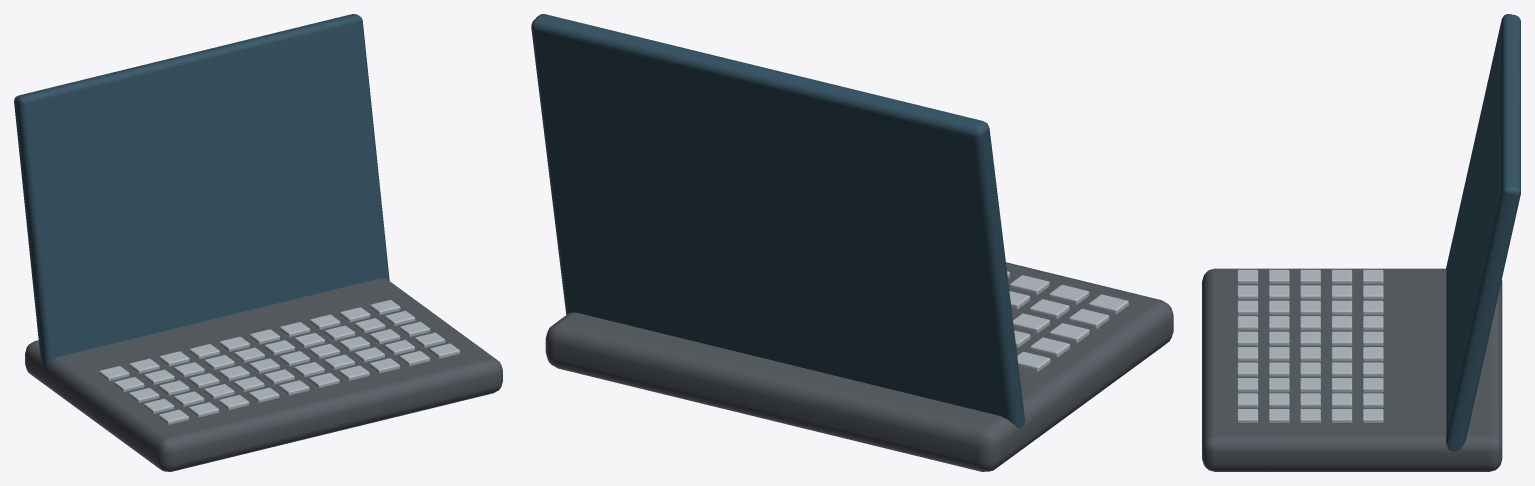
The model's file is atelier-laptop.glb.
3 renders of one model, left to right at view 1: azimuth 30°, elevation 25°; view 2: azimuth 150°, elevation 25°; view 3: azimuth 270°, elevation 25°, orthographic. The views are drawn at different scales.
Visible parts, largest first — view 1: screen.005, metal.136, steel.041; view 2: screen.005, metal.136, steel.041; view 3: metal.136, screen.005, steel.041.
Boxes of the visible parts, box(x1,y1,x2,y2) form: screen.005: box(14, 14, 389, 367); metal.136: box(25, 278, 502, 471); steel.041: box(99, 300, 459, 425); screen.005: box(531, 14, 1025, 428); metal.136: box(545, 262, 1173, 471); steel.041: box(1007, 271, 1128, 372); metal.136: box(1202, 268, 1502, 471); screen.005: box(1446, 14, 1520, 451); steel.041: box(1237, 269, 1383, 423).
Size of the model in its own units: 0.32 by 0.2432 by 0.2442.
